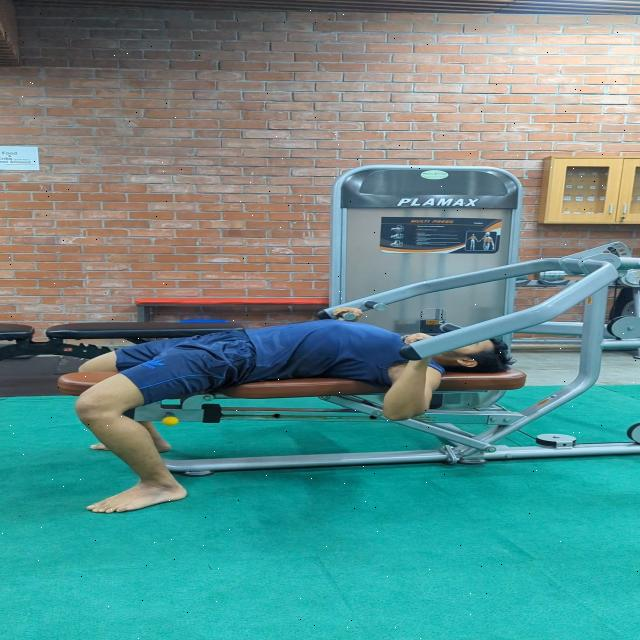Normal_BrenchPress: (63, 266, 530, 524)
